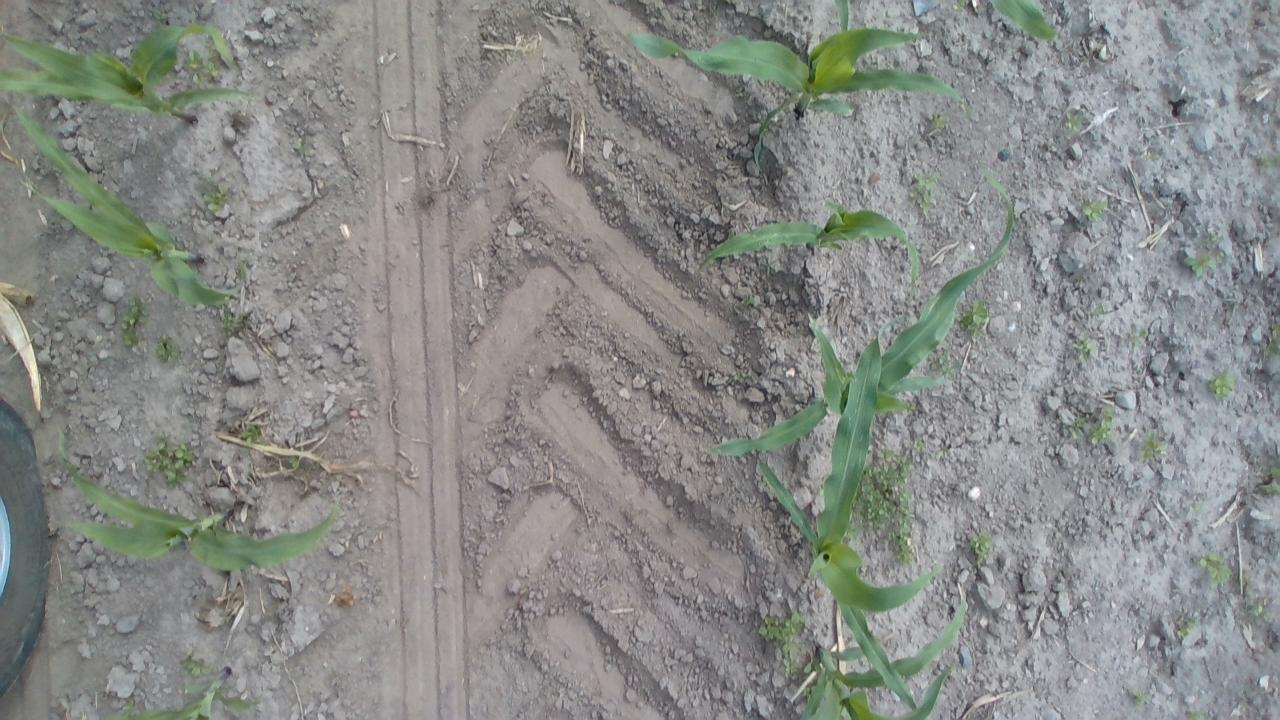Maize: (712, 173, 1032, 466), (752, 307, 928, 710), (6, 100, 258, 312), (617, 16, 971, 162), (48, 426, 350, 578), (0, 21, 265, 121), (790, 584, 982, 720), (692, 195, 928, 283), (78, 664, 270, 718), (988, 0, 1064, 48)
Weeds: (844, 448, 920, 570), (754, 606, 810, 680), (140, 430, 198, 491), (116, 290, 156, 352), (902, 168, 941, 216), (956, 298, 992, 342), (1196, 548, 1233, 589), (194, 175, 230, 217), (1085, 406, 1118, 448), (182, 50, 220, 86), (1137, 428, 1169, 466), (968, 529, 996, 566), (288, 133, 316, 169), (1206, 369, 1238, 400), (1076, 193, 1108, 224), (154, 335, 185, 366), (1242, 594, 1272, 626), (1184, 252, 1220, 278), (1061, 410, 1088, 441), (1070, 332, 1096, 364), (923, 111, 949, 142), (180, 653, 212, 677), (1058, 109, 1085, 137), (1174, 616, 1201, 642), (218, 306, 242, 335), (1255, 466, 1278, 496), (1204, 226, 1230, 252), (240, 422, 264, 448), (281, 453, 306, 476), (1256, 150, 1277, 176), (1128, 687, 1154, 708), (1263, 325, 1278, 360), (1125, 327, 1148, 348), (1238, 568, 1256, 594), (738, 290, 759, 312), (1181, 704, 1211, 719), (1187, 498, 1205, 519), (1088, 302, 1108, 320), (909, 438, 926, 456)
